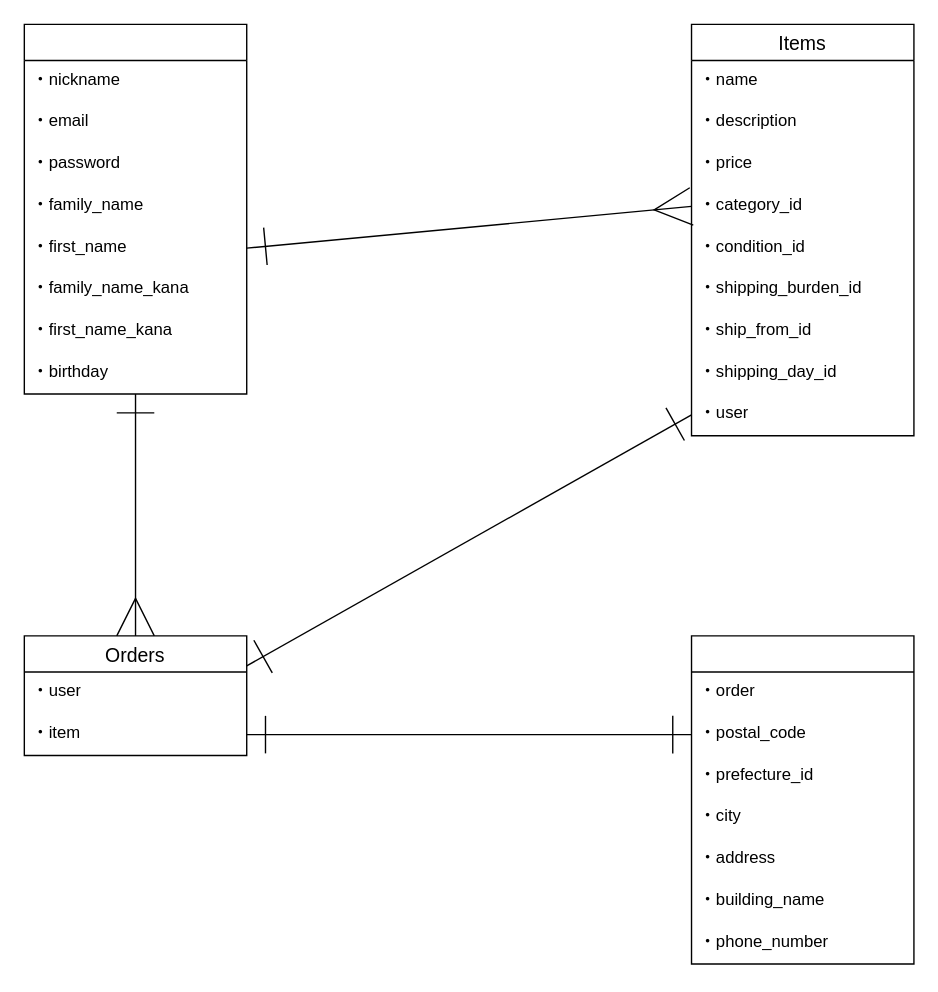
Some shapes in this 938 by 992 pixel diagram are drawn without their labels. The box of each missing label's shape, as (x1, y1, x2, y2) in pixels:
Shipping_addresses: (690, 635, 914, 964)
Users: (23, 23, 247, 394)
